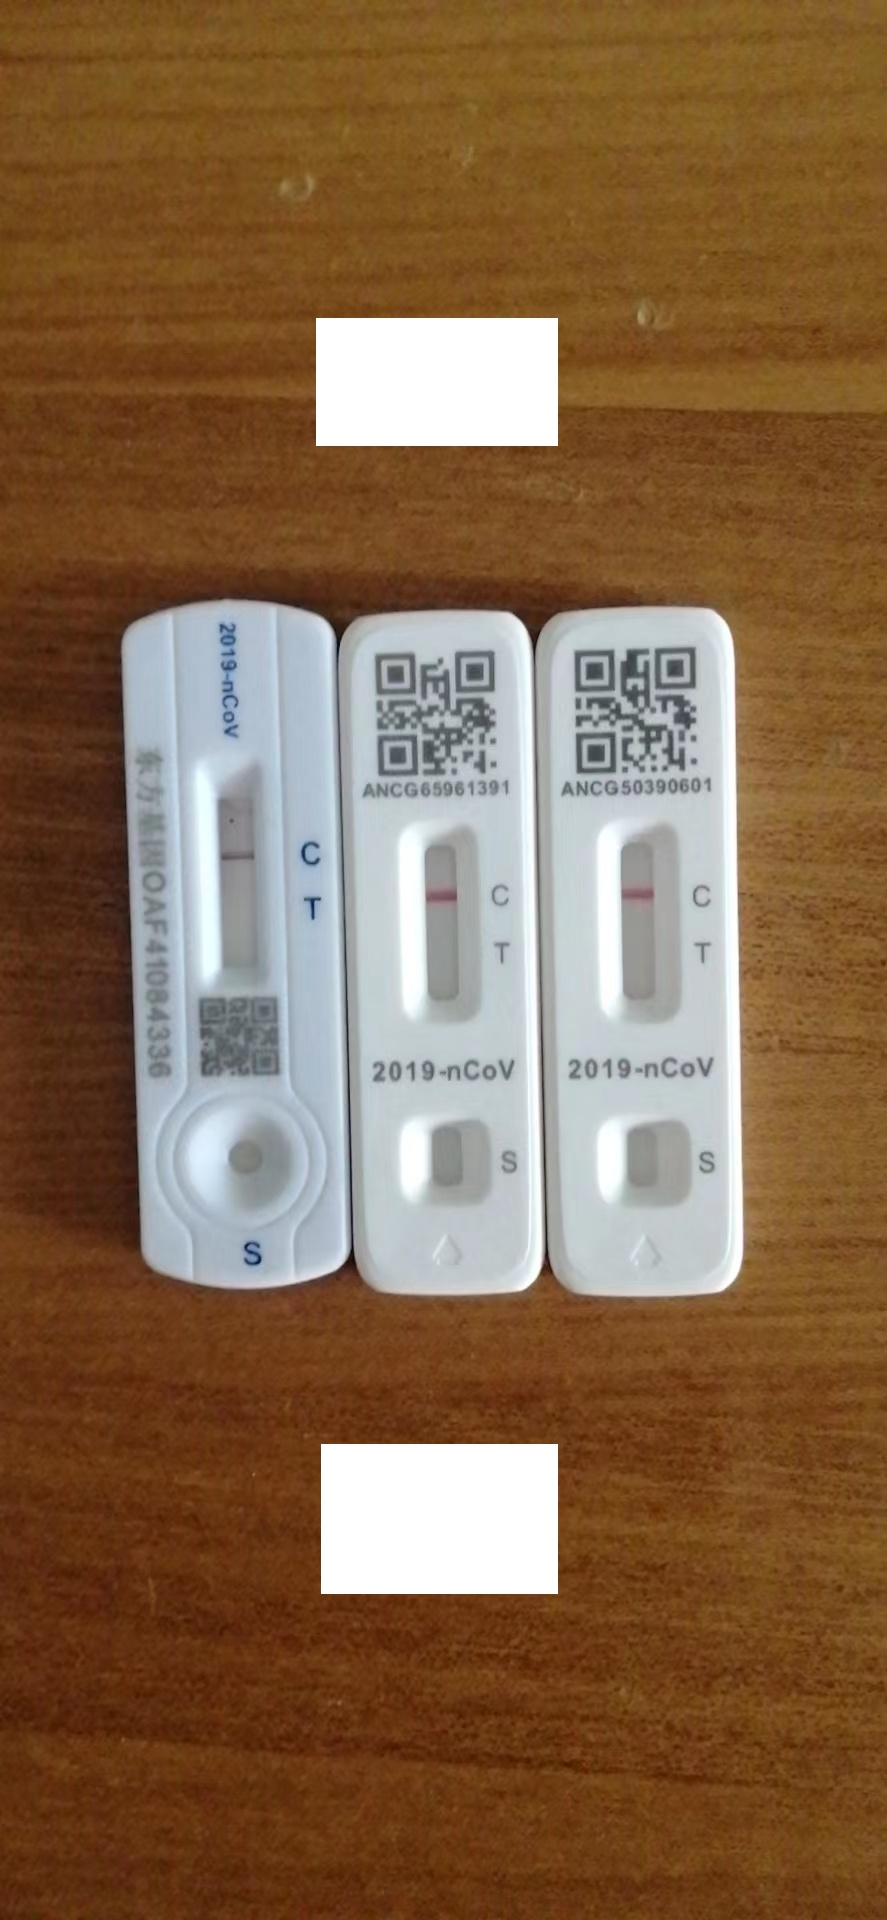negative: (196, 749, 265, 998), (602, 820, 681, 1029), (402, 822, 481, 1024)
